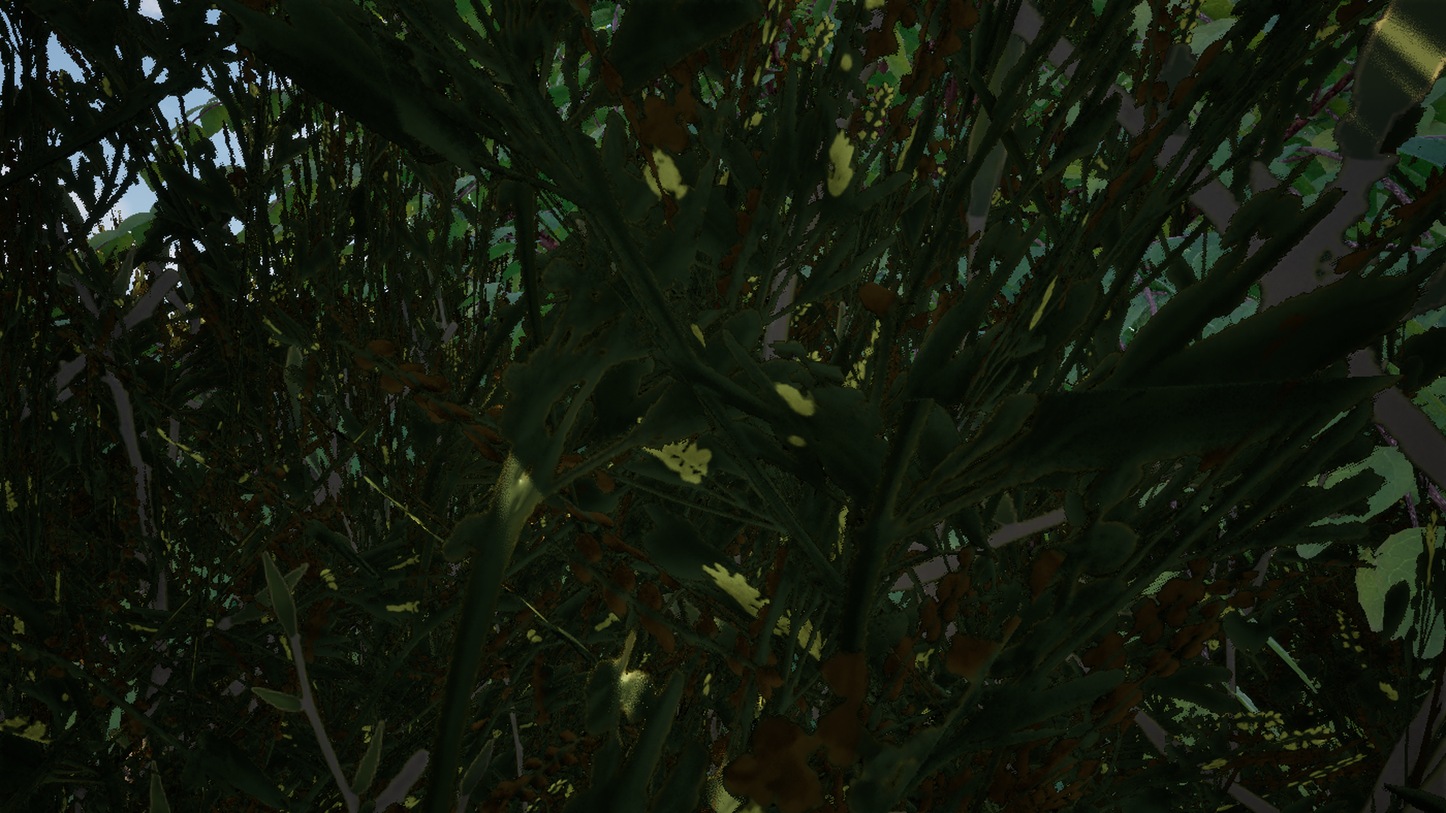Piplup: (299, 0, 1109, 813)
